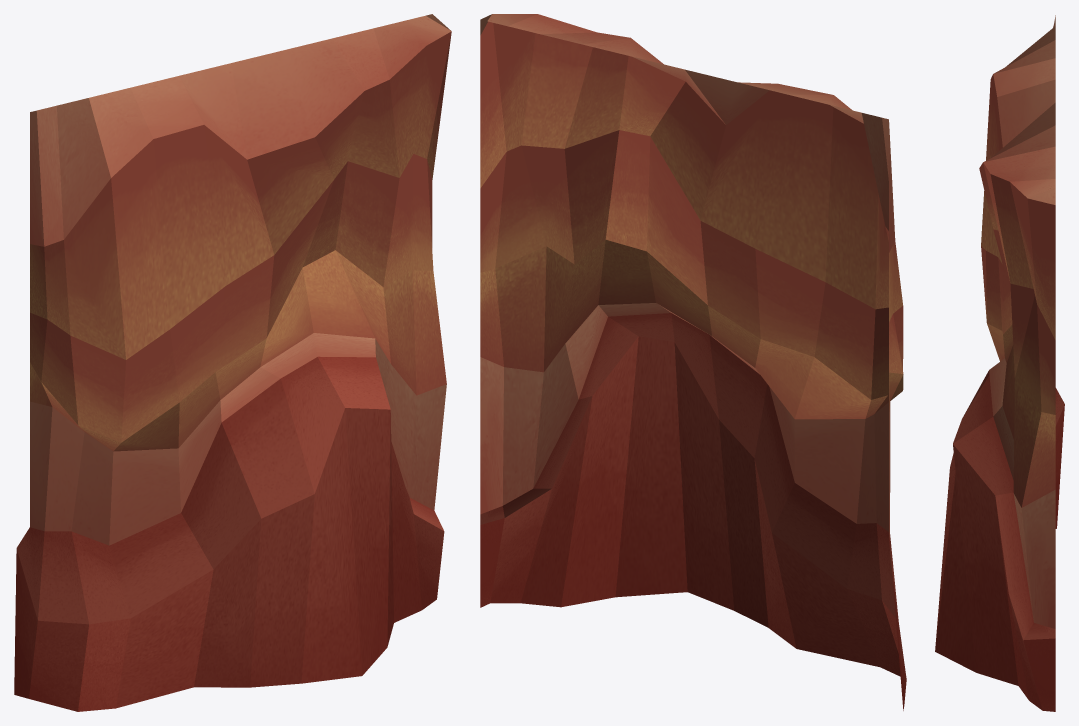
The model's file is WallB.fbx.
The picture shows the model from 3 angles, left to right: view 1: azimuth 30°, elevation 25°; view 2: azimuth 150°, elevation 25°; view 3: azimuth 270°, elevation 25°; orthographic projection. The views are drawn at different scales.
Visible parts, largest first — view 1: wall 2; view 2: wall 2; view 3: wall 2.
Part boxes in pixels (x1,y1,x2,y2): wall 2: (14, 14, 451, 711); wall 2: (480, 14, 906, 710); wall 2: (935, 15, 1064, 711).
Bounding box in the file's own units: 1216 × 1598 × 361.
